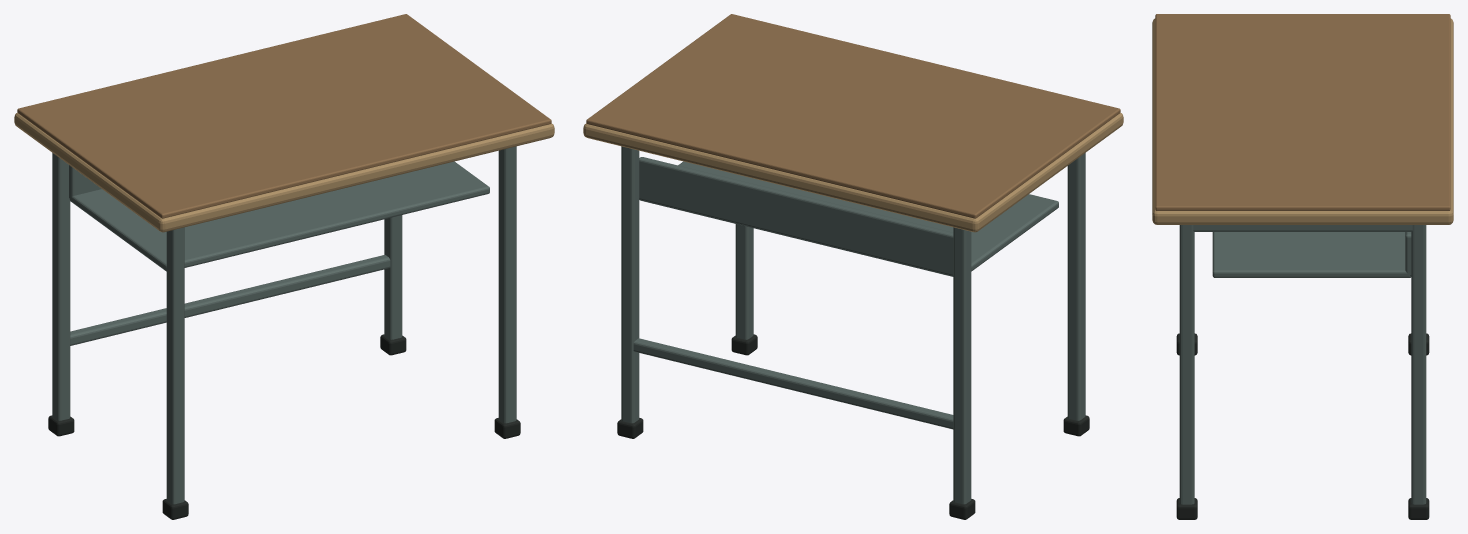
Rendered from classroom-desk.fbx.
3 renders of one model, left to right at view 1: azimuth 30°, elevation 25°; view 2: azimuth 150°, elevation 25°; view 3: azimuth 270°, elevation 25°, orthographic.
Visible parts, largest first — view 1: Desk writing surface, Book shelf, Layered plywood rim, Square steel leg, Square steel leg.002, Square steel leg.001, Rear stabilizer, Square steel leg.003; view 2: Desk writing surface, Shelf rear lip, Layered plywood rim, Square steel leg.001, Square steel leg.003, Square steel leg, Rear stabilizer, Book shelf, Square steel leg.002; view 3: Desk writing surface, Book shelf, Layered plywood rim, Square steel leg.002, Square steel leg.003, Side top rail.001, Protective foot.002, Protective foot.003.
Part boxes in pixels (<box>): Desk writing surface: <box>17,14,551,218</box>; Book shelf: <box>69,161,489,271</box>; Layered plywood rim: <box>14,112,554,232</box>; Square steel leg: <box>166,227,184,504</box>; Square steel leg.002: <box>498,146,516,423</box>; Square steel leg.001: <box>52,153,70,420</box>; Rear stabilizer: <box>70,255,390,345</box>; Square steel leg.003: <box>384,215,402,339</box>; Desk writing surface: <box>586,14,1120,218</box>; Shelf rear lip: <box>639,157,953,275</box>; Layered plywood rim: <box>583,112,1123,232</box>; Square steel leg.001: <box>953,227,971,504</box>; Square steel leg.003: <box>621,146,639,423</box>; Square steel leg: <box>1067,153,1085,420</box>; Rear stabilizer: <box>633,338,953,429</box>; Book shelf: <box>639,161,1058,276</box>; Square steel leg.002: <box>735,224,753,339</box>; Desk writing surface: <box>1155,14,1450,210</box>; Book shelf: <box>1212,232,1411,277</box>; Layered plywood rim: <box>1152,18,1453,224</box>; Square steel leg.002: <box>1179,225,1194,504</box>; Square steel leg.003: <box>1411,225,1426,504</box>; Side top rail.001: <box>1193,225,1412,231</box>; Protective foot.002: <box>1176,498,1197,519</box>; Protective foot.003: <box>1408,498,1429,519</box>.
Size of the model in its own units: 1 by 0.772 by 0.65.
